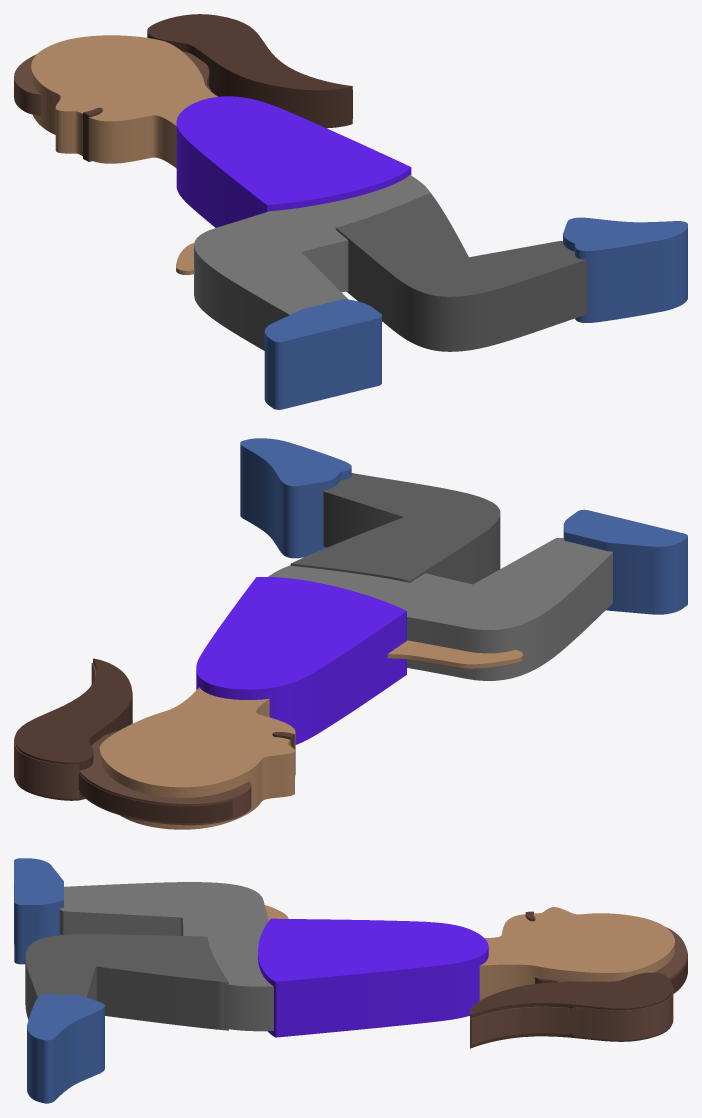
The model's file is emoji_u1f9ce_1f3fd_200d_2640.glb.
The picture shows the model from 3 angles, top to bottom: view 1: azimuth 30°, elevation 25°; view 2: azimuth 150°, elevation 25°; view 3: azimuth 270°, elevation 25°; orthographic projection. The views are drawn at different scales.
Visible parts, largest first — view 1: emoji_u1f9ce_1f3fd_200d_2640; view 2: emoji_u1f9ce_1f3fd_200d_2640; view 3: emoji_u1f9ce_1f3fd_200d_2640.
Part boxes in pixels (left/top/right/bottom): emoji_u1f9ce_1f3fd_200d_2640: left=14, top=14, right=687, bottom=409; emoji_u1f9ce_1f3fd_200d_2640: left=14, top=438, right=687, bottom=829; emoji_u1f9ce_1f3fd_200d_2640: left=14, top=858, right=687, bottom=1103.
Bounding box in the file's own units: 0.0212 × 0.0034 × 0.0329.
